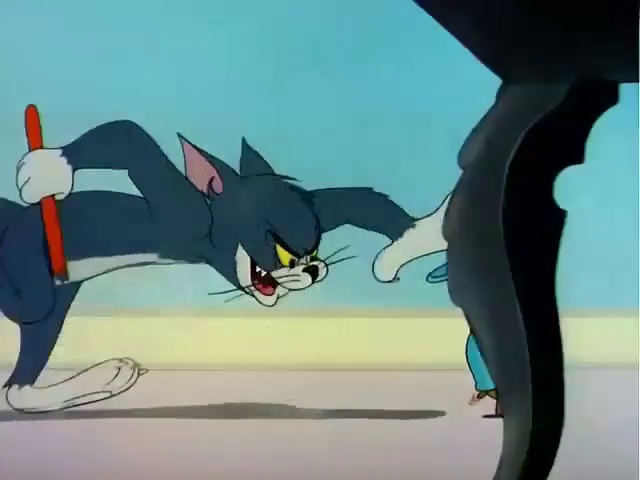tom: (1, 104, 446, 416)
